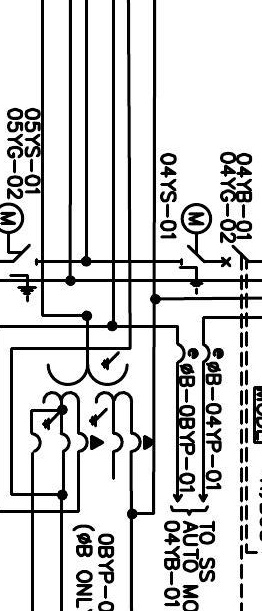115_3ways_ds_w_motor: (178, 202, 213, 296)
115_breaker: (220, 244, 250, 268)
115_vt_1p: (41, 350, 155, 454)
